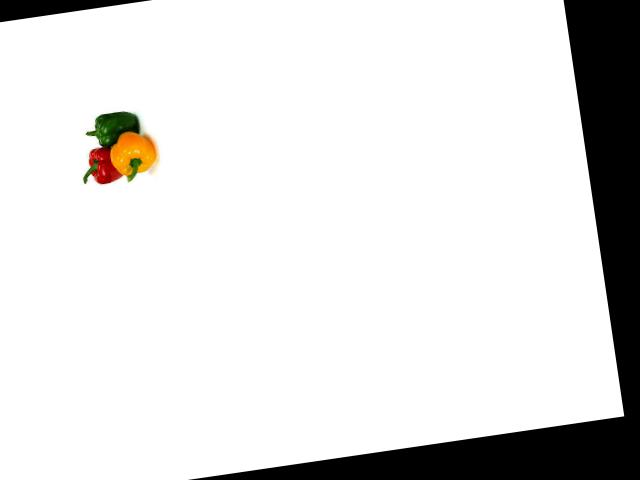bell_pepper: (73, 138, 130, 193)
